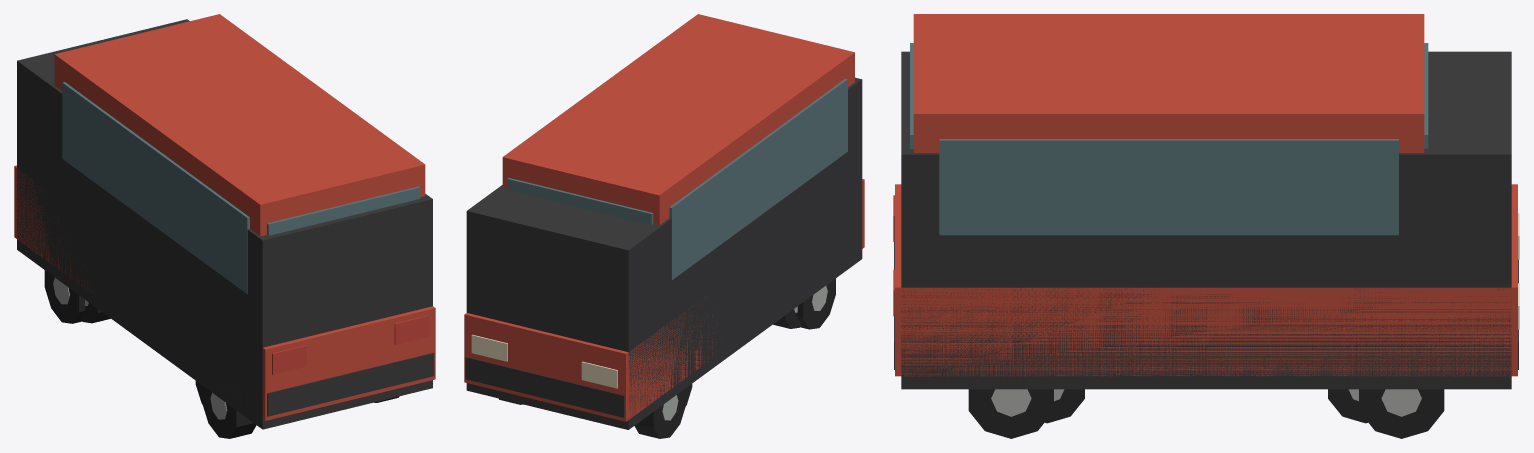
The model's file is vehicles.glb.
3 renders of one model, left to right at view 1: azimuth 30°, elevation 25°; view 2: azimuth 150°, elevation 25°; view 3: azimuth 270°, elevation 25°, orthographic. The views are drawn at different scales.
Parts seen in each view (by area): view 1: Van, Van_Col, Hatchback; view 2: Van, Van_Col, Hatchback; view 3: Van, Van_Col, Hatchback.
Part boxes in pixels (x1,y1,x2,y2): Van: (14,14,435,438); Van_Col: (17,19,432,429); Hatchback: (81,300,202,404); Van: (464,14,864,438); Van_Col: (466,77,862,429); Hatchback: (686,306,801,405); Van: (893,14,1519,438); Van_Col: (901,51,1511,389); Hatchback: (1045,389,1367,423).
Size of what is drawn, in the model's own units: 1.9 by 2.78 by 4.88.
